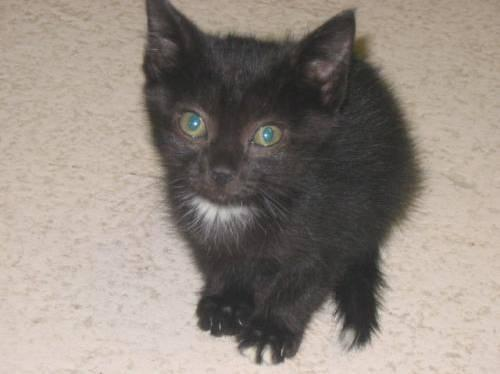cat: (145, 1, 420, 362)
